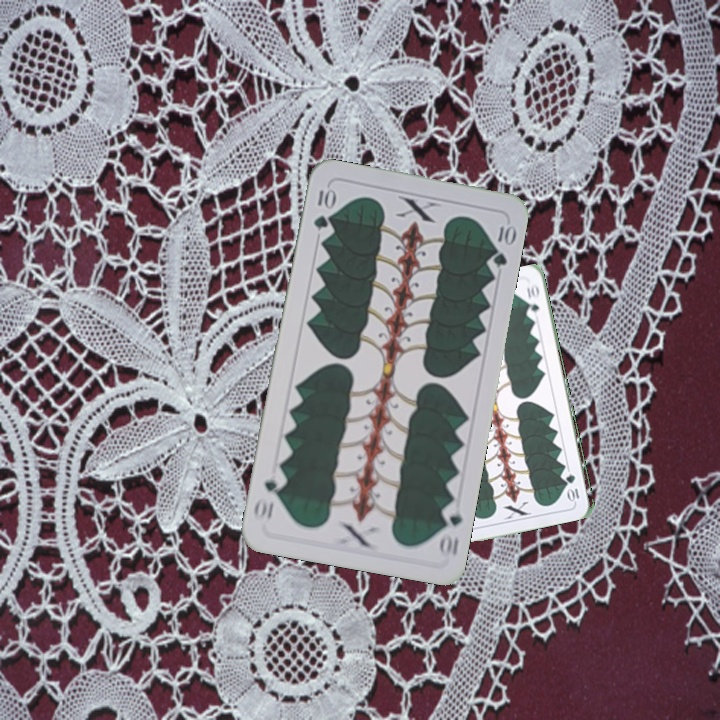G10: (435, 500, 465, 560), (309, 183, 336, 232), (564, 470, 582, 504)
